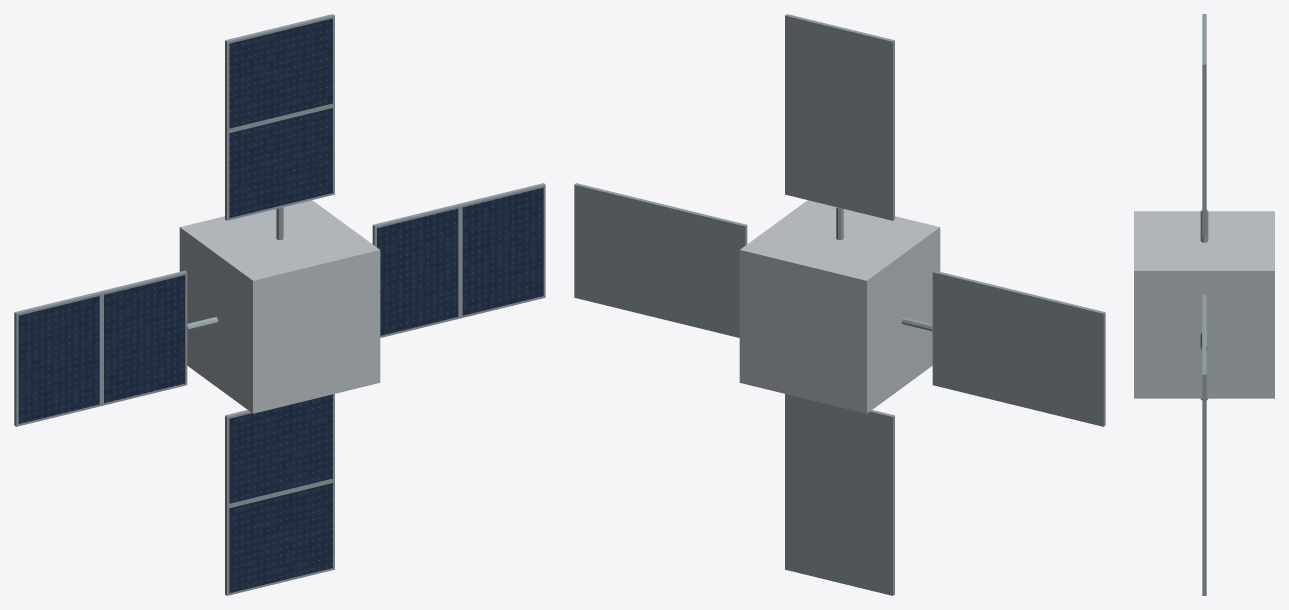
The model's file is ref-ov2-13912.glb.
The picture shows the model from 3 angles, left to right: view 1: azimuth 30°, elevation 25°; view 2: azimuth 150°, elevation 25°; view 3: azimuth 270°, elevation 25°; orthographic projection. The views are drawn at different scales.
Visible parts, largest first — view 1: Photovoltaic laminates (×8), Spacecraft body, Array frame (×8); view 2: Array frame (×8), Spacecraft body; view 3: Spacecraft body, Array frame (×4), Solar array drive.
Boxes of the visible parts, x1=… form: Photovoltaic laminates (×8): x1=18, y1=18, x2=543, y2=593; Spacecraft body: x1=179, y1=200, x2=380, y2=413; Array frame (×8): x1=14, y1=14, x2=545, y2=595; Array frame (×8): x1=574, y1=14, x2=1105, y2=595; Spacecraft body: x1=739, y1=200, x2=940, y2=413; Spacecraft body: x1=1134, y1=211, x2=1274, y2=398; Array frame (×4): x1=1202, y1=14, x2=1206, y2=595; Solar array drive: x1=1200, y1=210, x2=1208, y2=242.
Bounding box in the file's own units: 2.5 × 2.5 × 0.6.
Materials: 3 (1 with a texture image).
